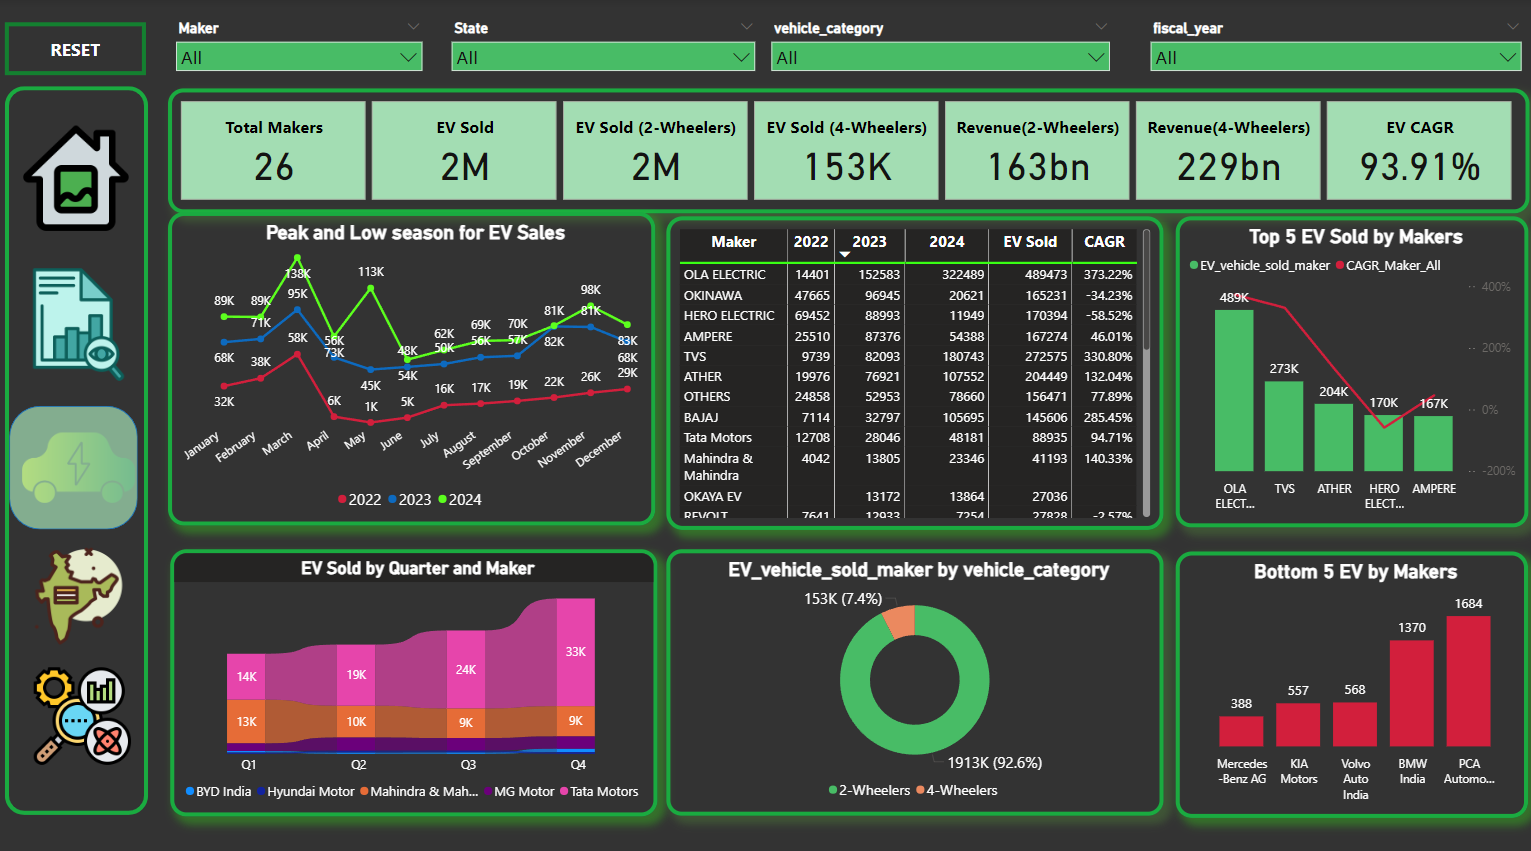

Layout of this report page (visuals, bound fields, positions):
{"tool":"powerbi","page":{"name":"Maker","canvas":[1920,1080],"ordinal":2},"visuals":[{"type":"cardVisual","fields":{"Data":["KeyMeasures.Total Makers","KeyMeasures.EV_vehicle_sold_maker","KeyMeasures.EV_sold for 2-Wheelers(maker)","KeyMeasures.total_vehicles_sold for 4-Wheelers","KeyMeasures.Revenue(2-Wheelers)","KeyMeasures.Revenue(4-Wheelers)","KeyMeasures.CAGR_Maker_All"]},"box":[224.4,110.6,1675.1,153.7],"z":0},{"type":"tableEx","fields":{"Values":["dim_makers.Maker","KeyMeasures.EV_Maker_2022","KeyMeasures.EV_Maker_2023","KeyMeasures.EV_Maker_2024","KeyMeasures.EV_vehicle_sold_maker","KeyMeasures.CAGR_Maker_All"]},"box":[839.1,267.4,611.6,386],"z":1000},{"type":"lineChart","title":"Peak and Low season for EV Sales","fields":{"Y":["Sum(electric_vehicle_sales_by_makers.electric_vehicles_sold)"],"Series":["dim_date.fiscal_year"],"Category":["dim_date.month"]},"box":[224.4,264.3,599.3,386],"z":2000},{"type":"lineStackedColumnComboChart","title":"Top 5 EV Sold by Makers ","fields":{"Category":["dim_makers.Maker"],"Y":["KeyMeasures.EV_vehicle_sold_maker"],"Y2":["KeyMeasures.CAGR_Maker_All"]},"box":[1465.1,268.6,434.1,382.5],"z":3000},{"type":"ribbonChart","title":"EV Sold by Quarter and Maker","fields":{"Category":["dim_date.quarter"],"Y":["Sum(electric_vehicle_sales_by_makers.electric_vehicles_sold)"],"Series":["electric_vehicle_sales_by_makers.maker"]},"box":[227.4,679.3,599.3,328.9],"z":4000},{"type":"lineStackedColumnComboChart","title":"Bottom 5 EV by Makers ","fields":{"Category":["dim_makers.Maker"],"Y":["KeyMeasures.EV_vehicle_sold_maker"]},"box":[1466.1,682.3,433.4,328],"z":5000},{"type":"donutChart","fields":{"Category":["dim_vechicle.vehicle_category"],"Y":["KeyMeasures.EV_vehicle_sold_maker"]},"box":[839.1,679.3,611.6,328],"z":6000},{"type":"slicer","fields":{"Values":["dim_date.fiscal_year"]},"box":[1423,21.5,476.4,83],"z":7000},{"type":"slicer","fields":{"Values":["dim_vechicle.vehicle_category"]},"box":[958.9,21.5,436.4,83],"z":8000},{"type":"shape","box":[24.3,109.4,176.3,896.6],"z":9000},{"type":"image","box":[30.4,152,164.1,139.8],"z":10000},{"type":"image","box":[39.5,501.5,148.9,152],"z":11000},{"type":"image","box":[27.4,653.5,176.3,164.1],"z":12000},{"type":"image","box":[39.5,817.6,158,133.7],"z":13000},{"type":"shape","box":[30.4,501.5,158,152],"z":14000},{"type":"slicer","fields":{"Values":["dim_makers.Maker"]},"box":[224.4,21.5,322.7,83],"z":15000},{"type":"slicer","fields":{"Values":["dim_state.State"]},"box":[565.5,21.5,393.4,83],"z":16000},{"type":"image","box":[39.5,322.2,148.9,158],"z":17000},{"type":"actionButton","title":"RESET","box":[24.4,29.8,173.6,65.1],"z":18000}]}

Visuals, with their boxes in screenshot pixels (x1, y1, x2, y2), scaled from the page's 1920x1080 canvas onto the 1531x851 screenshot:
cardVisual - KeyMeasures.Total Makers x KeyMeasures.EV_vehicle_sold_maker: {"x1": 179, "y1": 87, "x2": 1515, "y2": 208}
tableEx - dim_makers.Maker x KeyMeasures.EV_Maker_2022: {"x1": 669, "y1": 211, "x2": 1157, "y2": 515}
"Peak and Low season for EV Sales" lineChart: {"x1": 179, "y1": 208, "x2": 657, "y2": 512}
"Top 5 EV Sold by Makers " lineStackedColumnComboChart: {"x1": 1168, "y1": 212, "x2": 1514, "y2": 513}
"EV Sold by Quarter and Maker" ribbonChart: {"x1": 181, "y1": 535, "x2": 659, "y2": 794}
"Bottom 5 EV by Makers " lineStackedColumnComboChart: {"x1": 1169, "y1": 538, "x2": 1515, "y2": 796}
donutChart - dim_vechicle.vehicle_category x KeyMeasures.EV_vehicle_sold_maker: {"x1": 669, "y1": 535, "x2": 1157, "y2": 794}
slicer - dim_date.fiscal_year: {"x1": 1135, "y1": 17, "x2": 1515, "y2": 82}
slicer - dim_vechicle.vehicle_category: {"x1": 765, "y1": 17, "x2": 1113, "y2": 82}
shape: {"x1": 19, "y1": 86, "x2": 160, "y2": 793}
image: {"x1": 24, "y1": 120, "x2": 155, "y2": 230}
image: {"x1": 31, "y1": 395, "x2": 150, "y2": 515}
image: {"x1": 22, "y1": 515, "x2": 162, "y2": 644}
image: {"x1": 31, "y1": 644, "x2": 157, "y2": 750}
shape: {"x1": 24, "y1": 395, "x2": 150, "y2": 515}
slicer - dim_makers.Maker: {"x1": 179, "y1": 17, "x2": 436, "y2": 82}
slicer - dim_state.State: {"x1": 451, "y1": 17, "x2": 765, "y2": 82}
image: {"x1": 31, "y1": 254, "x2": 150, "y2": 378}
"RESET" actionButton: {"x1": 19, "y1": 23, "x2": 158, "y2": 75}
